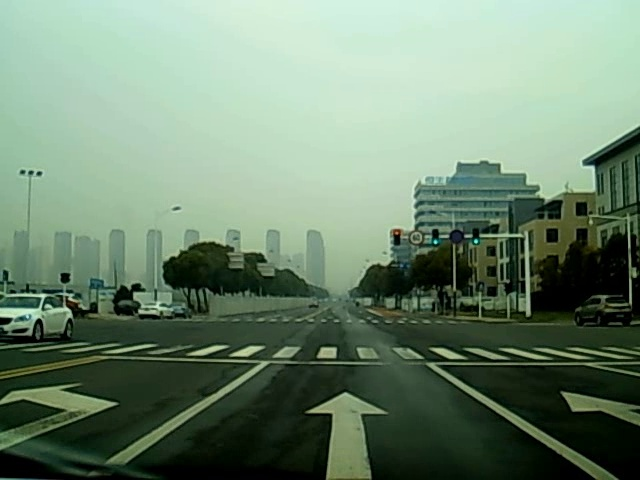Traffic_Light_go: (472, 228, 479, 247), (433, 229, 439, 247)
Traffic_Light_stop: (392, 229, 401, 250)
